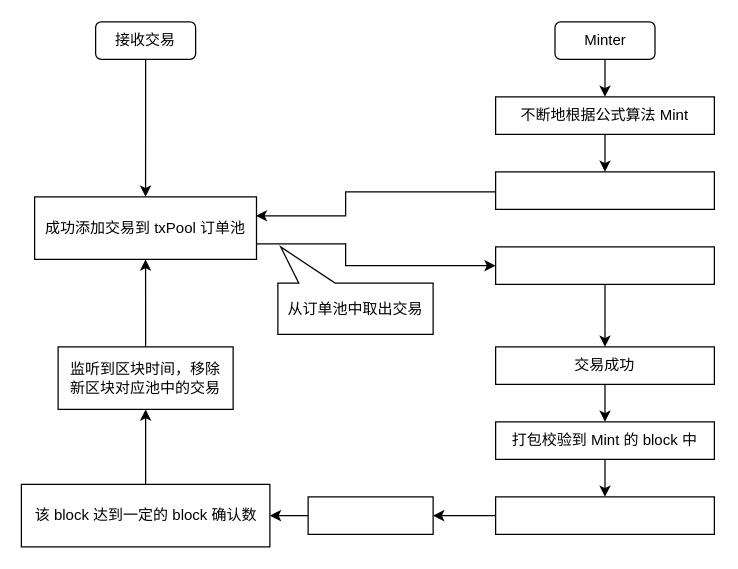
Image size: 738x569. Some labels were removed from this diagram. Each missing label, with the centre of its shape:
"Mint 成功" belongs at point (604, 190).
"再次校验交易" belongs at point (604, 265).
"广播交易" belongs at point (604, 515).
"节点 block 校验" belongs at point (370, 515).
